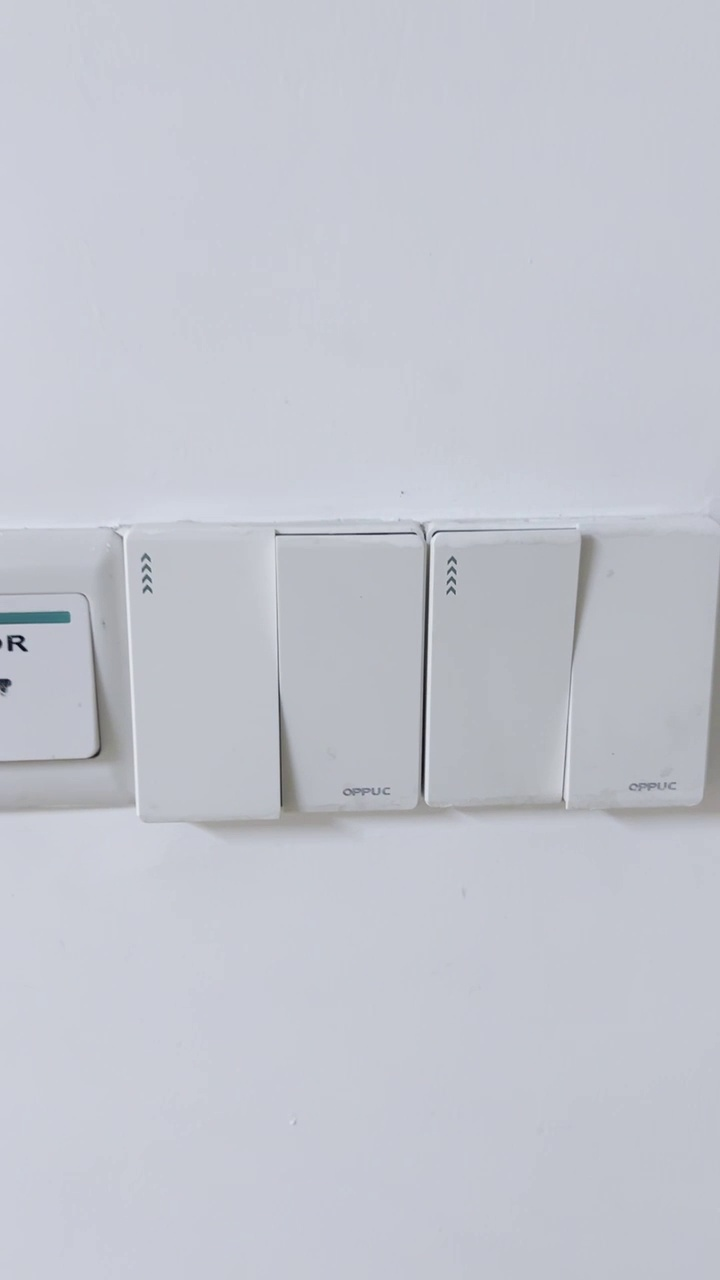button1: (131, 532, 281, 822), (569, 533, 718, 806), (429, 533, 574, 803), (280, 538, 420, 812)
